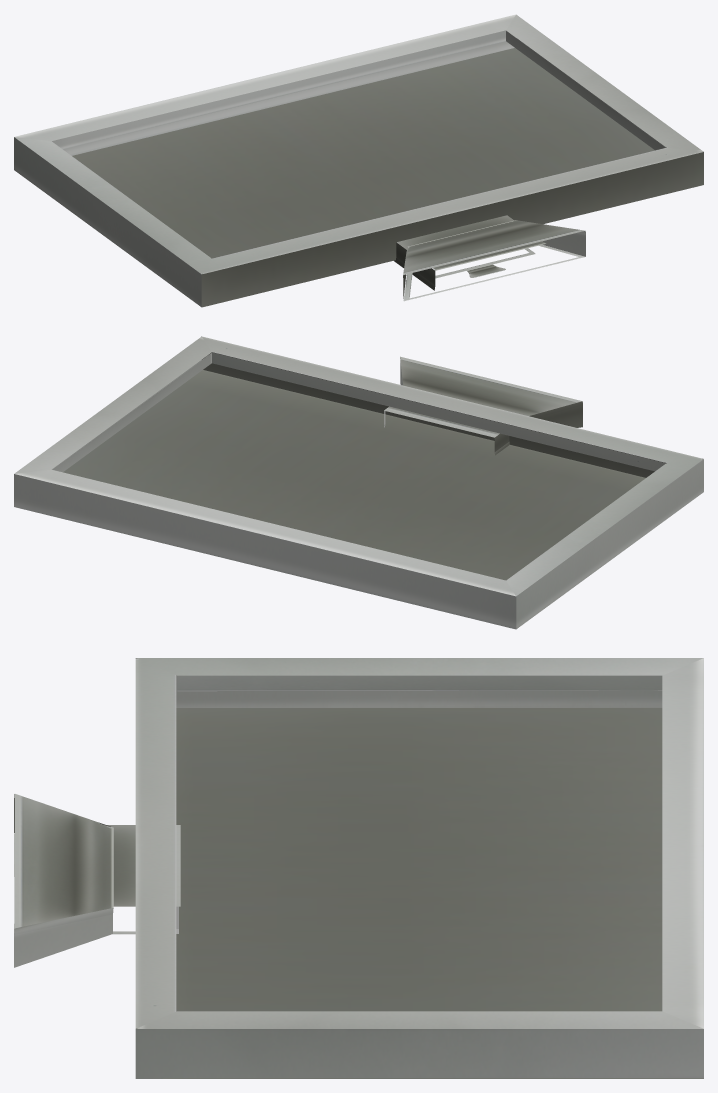
Rendered from Monitor.fbx.
3 renders of one model, top to bottom at view 1: azimuth 30°, elevation 25°; view 2: azimuth 150°, elevation 25°; view 3: azimuth 270°, elevation 25°, orthographic. The views are drawn at different scales.
Parts seen in each view (by area): view 1: Plane; view 2: Plane; view 3: Plane.
Boxes of the visible parts, <box> form: Plane: <box>14,14,703,307</box>; Plane: <box>14,336,703,629</box>; Plane: <box>14,658,703,1078</box>.
Bounding box in the file's own units: 498 × 35 × 391.
